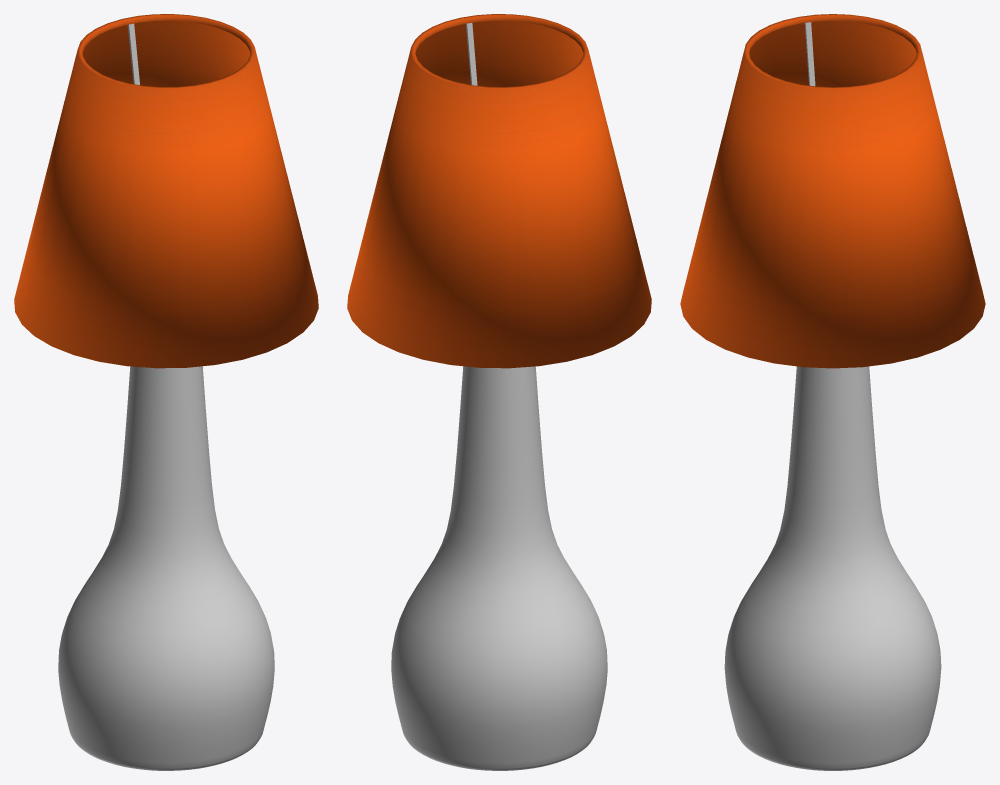
File: sh_scopia_livingroom_lamp1.glb
3 views of the same model, side by side, from view 1: azimuth 30°, elevation 25°; view 2: azimuth 150°, elevation 25°; view 3: azimuth 270°, elevation 25° (orthographic).
Size of the model in its own units: 0.272 by 0.669 by 0.272.
6 materials, 1 textured.
